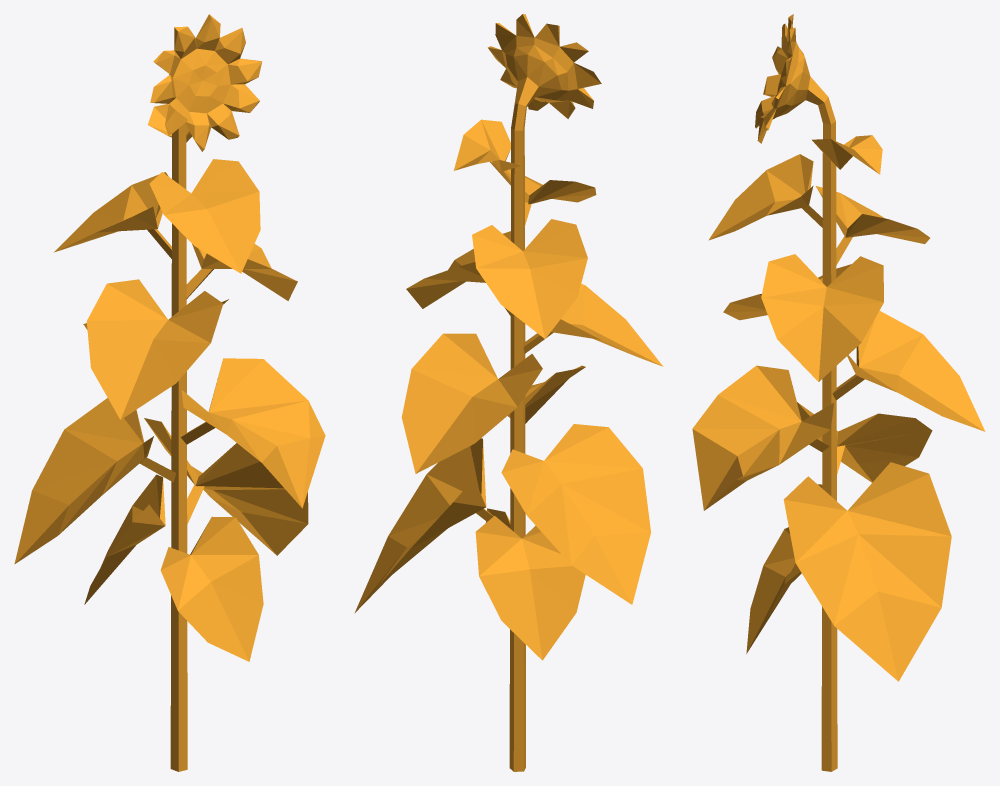
File: SM_Sunflower_Plant_Mature_A.fbx
The picture shows the model from 3 angles, left to right: view 1: azimuth 30°, elevation 25°; view 2: azimuth 150°, elevation 25°; view 3: azimuth 270°, elevation 25°; orthographic projection. The views are drawn at different scales.
Visible parts, largest first — view 1: sunflower-plant-mature-a; view 2: sunflower-plant-mature-a; view 3: sunflower-plant-mature-a.
Boxes of the visible parts, x1,y1,x2,y2 form: sunflower-plant-mature-a: [14, 14, 325, 771]; sunflower-plant-mature-a: [354, 14, 663, 771]; sunflower-plant-mature-a: [692, 14, 985, 771].
Bounding box in the file's own units: 0.8729 × 2.32 × 0.824.
